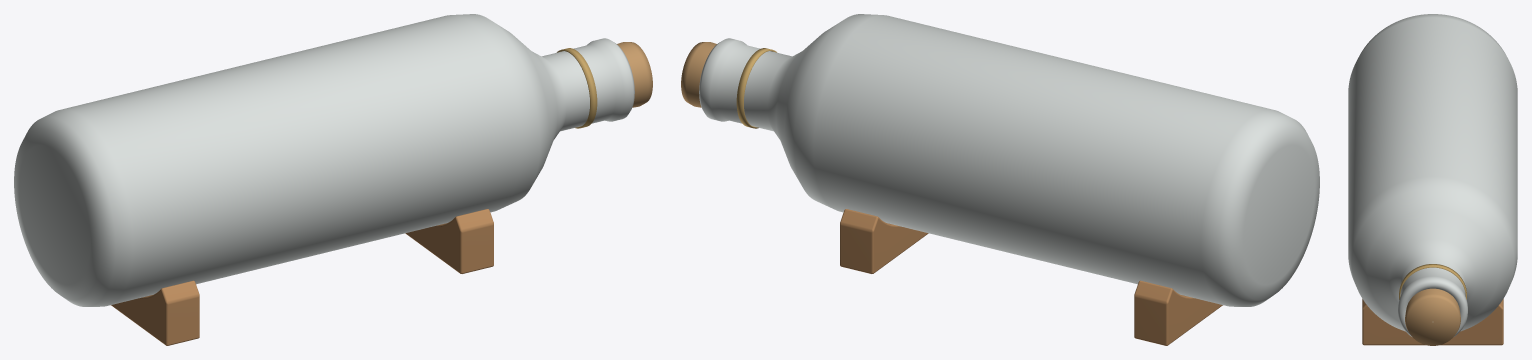
The model's file is longship-bottle-v5.fbx.
The picture shows the model from 3 angles, left to right: view 1: azimuth 30°, elevation 25°; view 2: azimuth 150°, elevation 25°; view 3: azimuth 270°, elevation 25°; orthographic projection. The views are drawn at different scales.
Visible parts, largest first — view 1: Bottle | thick transparent glass export, Longship | static opaque assembly; view 2: Bottle | thick transparent glass export, Longship | static opaque assembly; view 3: Bottle | thick transparent glass export, Longship | static opaque assembly.
Boxes of the visible parts, x1=… form: Bottle | thick transparent glass export: x1=14, y1=14, x2=634, y2=306; Longship | static opaque assembly: x1=111, y1=42, x2=652, y2=345; Bottle | thick transparent glass export: x1=699, y1=14, x2=1319, y2=306; Longship | static opaque assembly: x1=681, y1=42, x2=1222, y2=345; Bottle | thick transparent glass export: x1=1348, y1=14, x2=1517, y2=336; Longship | static opaque assembly: x1=1362, y1=264, x2=1503, y2=345.
Size of the model in its own units: 188 by 64.7 by 56.4.
